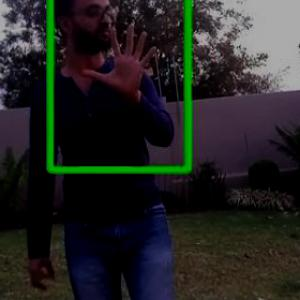follow_hand: (76, 19, 163, 96)
